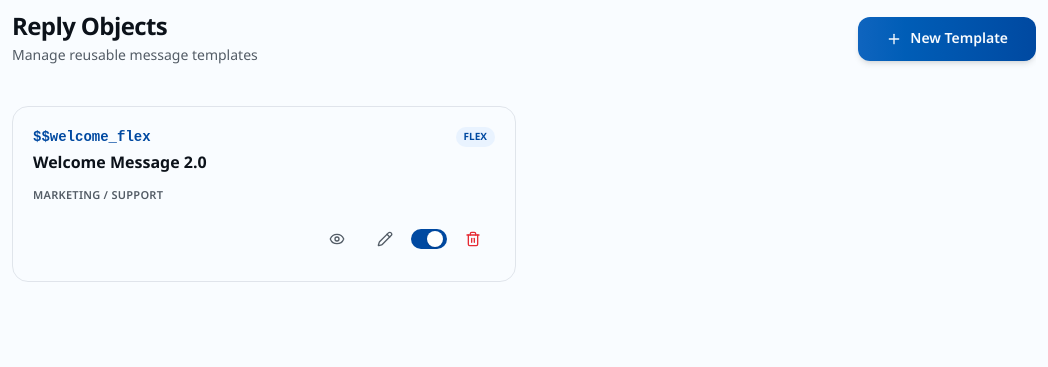
Test: ReplyObjectsClient กริด JSK › handleToggleActive คืน error → banner แสดงข้อความเดิม
The width and height of the screenshot is (1048, 367).
Expected: the text "$$welcome_flex" is shown, x1=33 y1=129 x2=151 y2=145
Click the switch named "ปิดใช้งาน welcome_flex": (429, 239) x1=411 y1=229 x2=447 y2=249
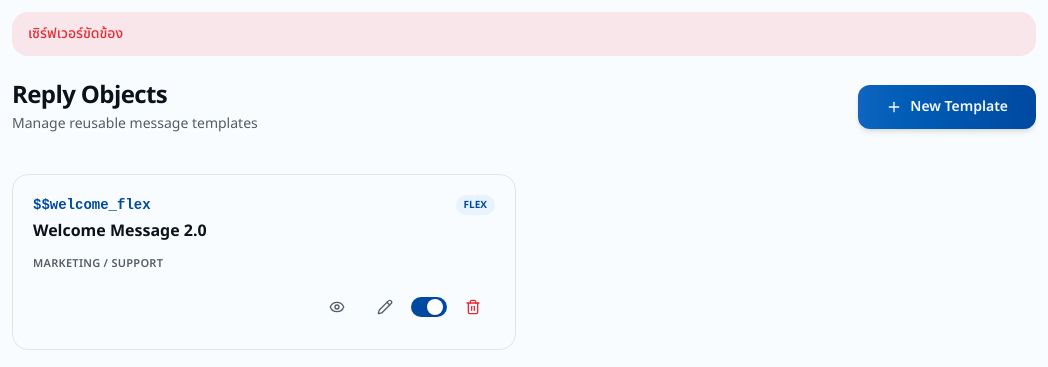
Now the message reads "เซิร์ฟเวอร์ขัดข้อง", box x1=28 y1=23 x2=123 y2=44
